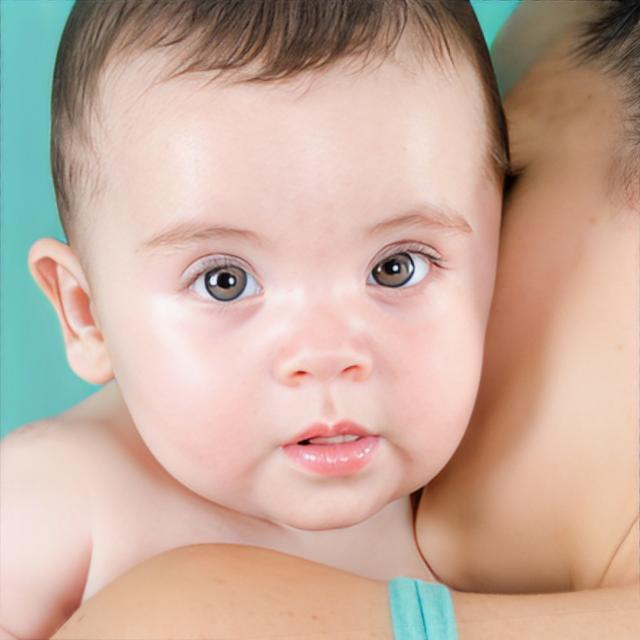surprise: (50, 0, 504, 533)
